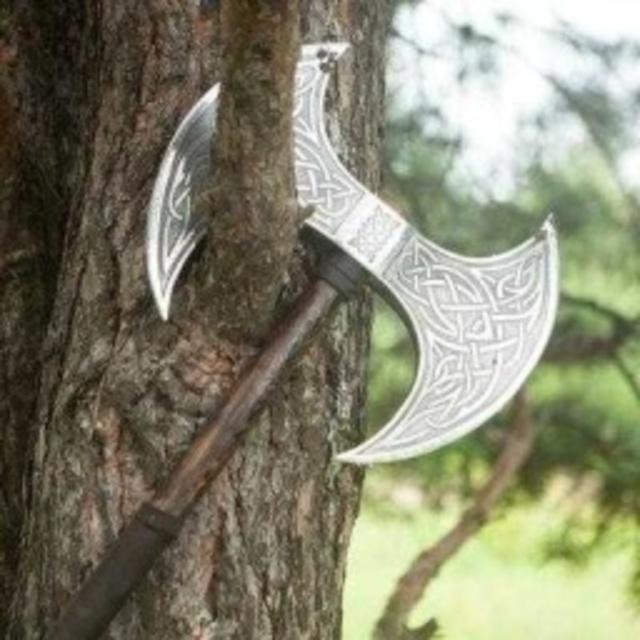ax: (42, 24, 570, 640)
